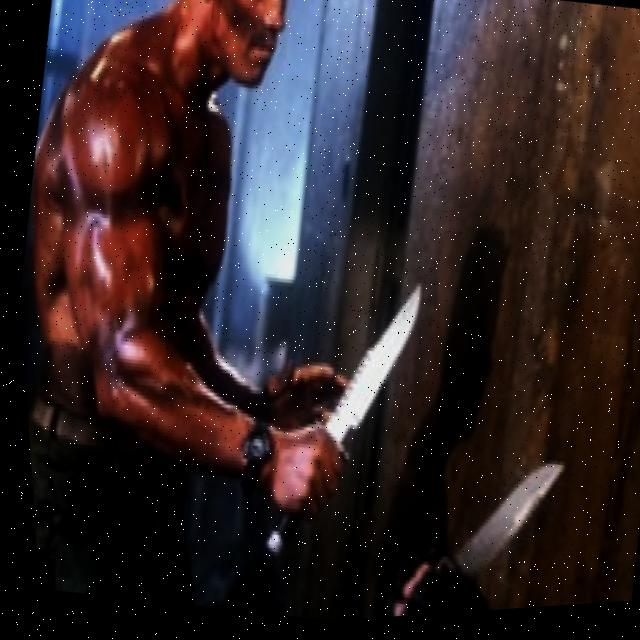knife: (294, 271, 429, 482), (434, 455, 565, 605)
